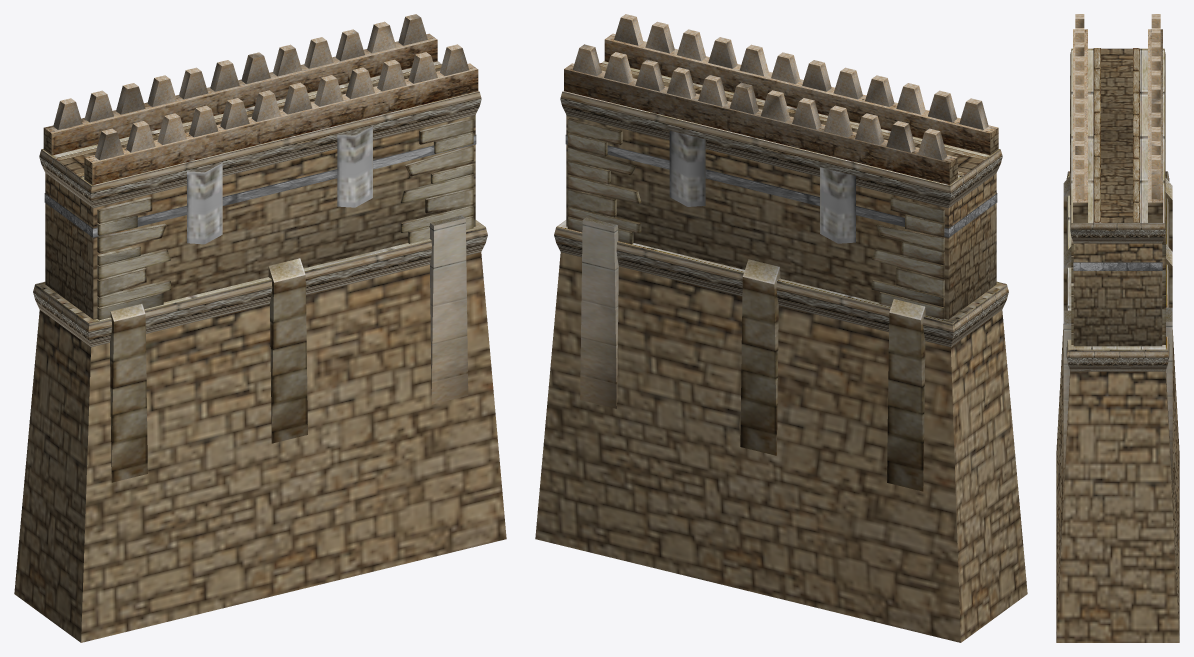
File: s_seleucids_wall_medium.glb
3 views of the same model, side by side, from view 1: azimuth 30°, elevation 25°; view 2: azimuth 150°, elevation 25°; view 3: azimuth 270°, elevation 25° (orthographic). The views are drawn at different scales.
Parts seen in each view (by area): view 1: s_seleucids_wall_medium_part0; view 2: s_seleucids_wall_medium_part0; view 3: s_seleucids_wall_medium_part0.
Part boxes in pixels (x1=…): s_seleucids_wall_medium_part0: x1=14, y1=14, x2=506, y2=642; s_seleucids_wall_medium_part0: x1=535, y1=14, x2=1027, y2=642; s_seleucids_wall_medium_part0: x1=1056, y1=14, x2=1179, y2=642.
Bounding box in the file's own units: 5.94 × 6.57 × 1.62.
1 material, 1 textured.
